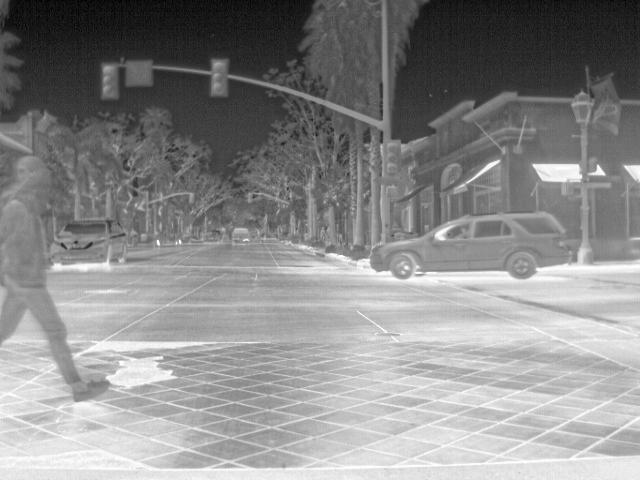car: (370, 210, 572, 281), (49, 216, 131, 265), (200, 225, 227, 243), (228, 224, 249, 245)
person: (0, 156, 110, 403)
